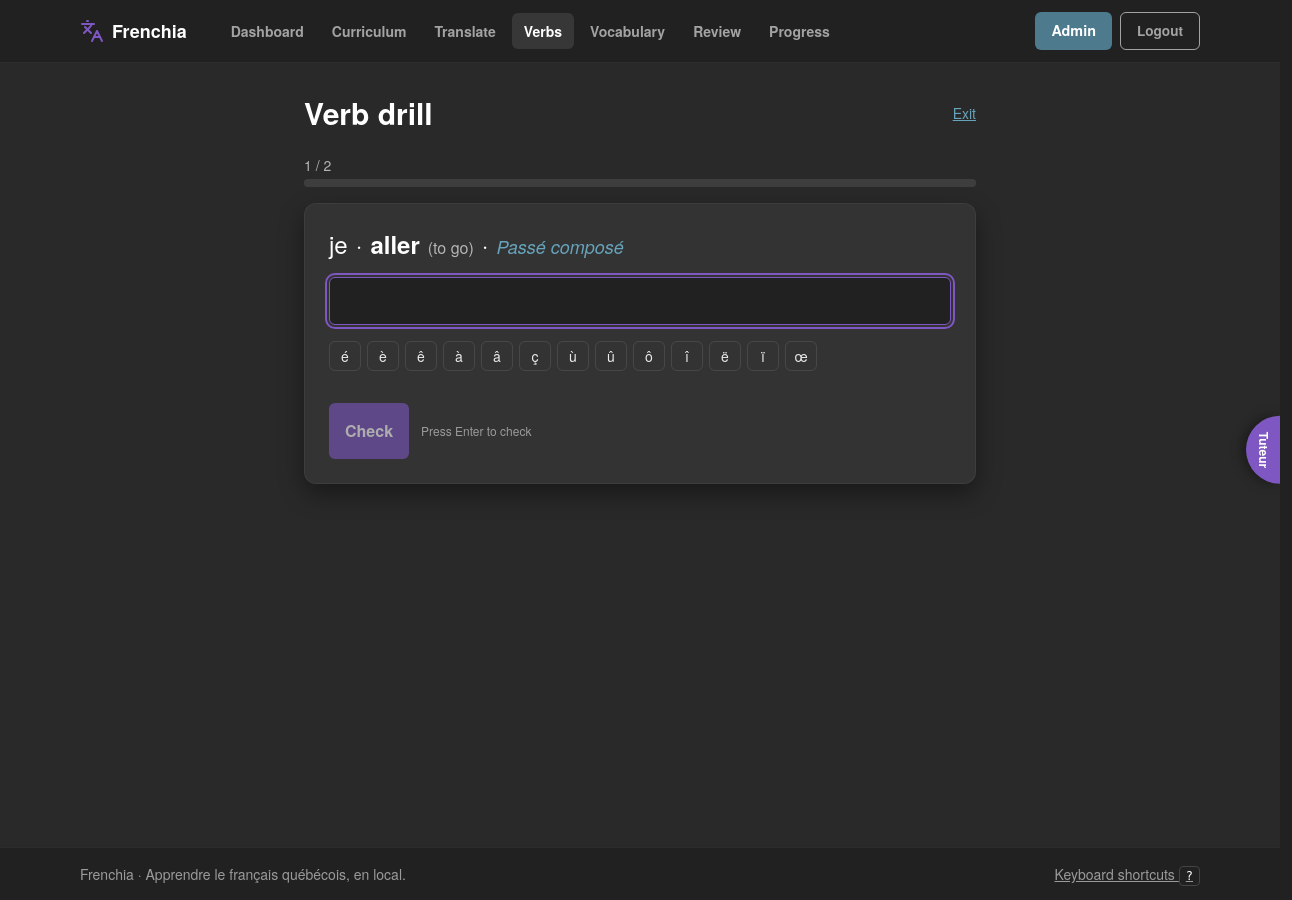
Verb Station › drill: form item posts the payload, shows feedback, Enter goes next, summary lists misses
Expected: the text "(to go)" is shown, top-left (428, 236), bottom-right (474, 260)
Type "suis allé" into the field named "Your answer" at (640, 301), box top-left (329, 277), bottom-right (951, 325)
Then press Enter
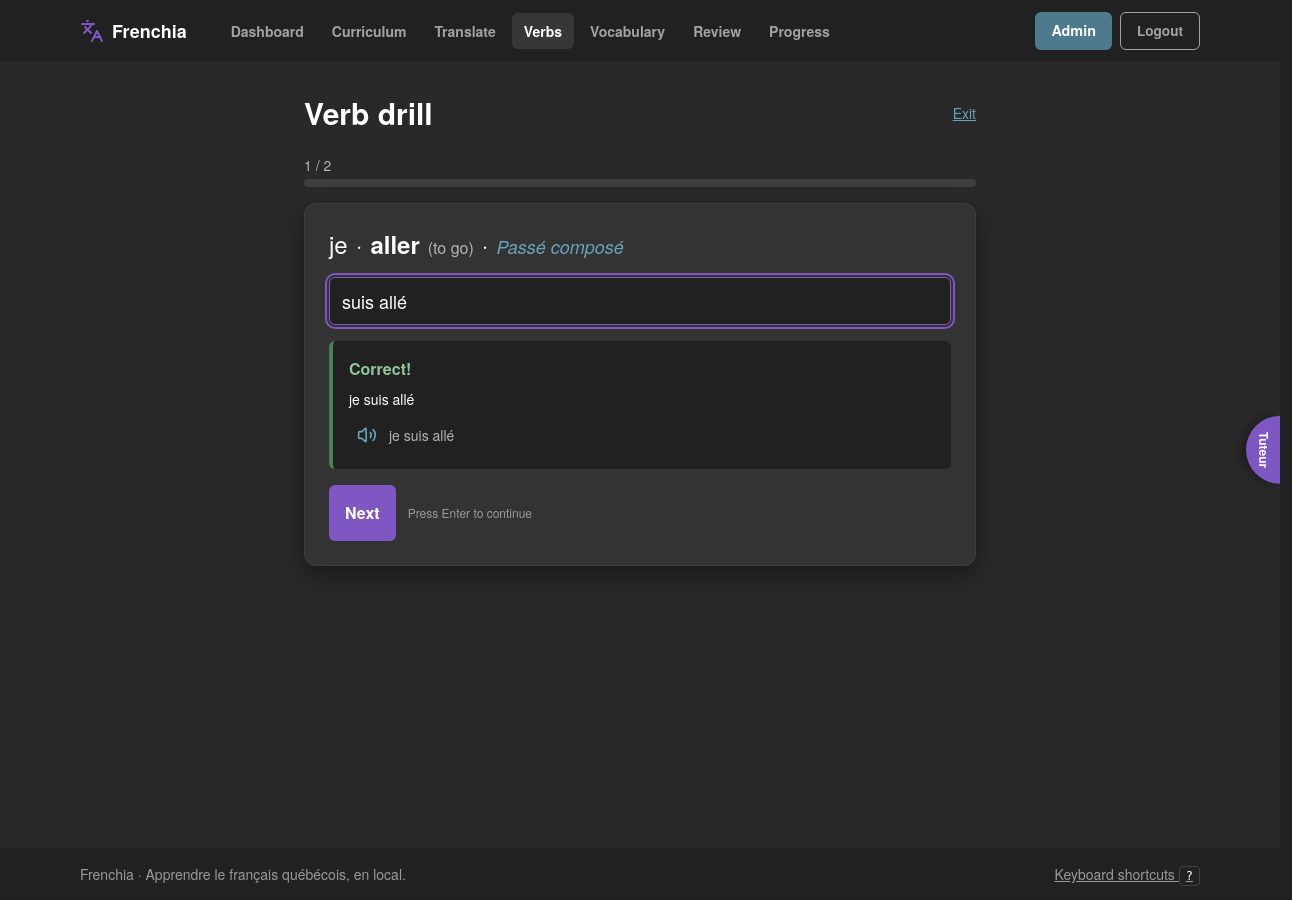
Expected: the text "Correct!" is shown, top-left (349, 357), bottom-right (411, 380)
Press Enter
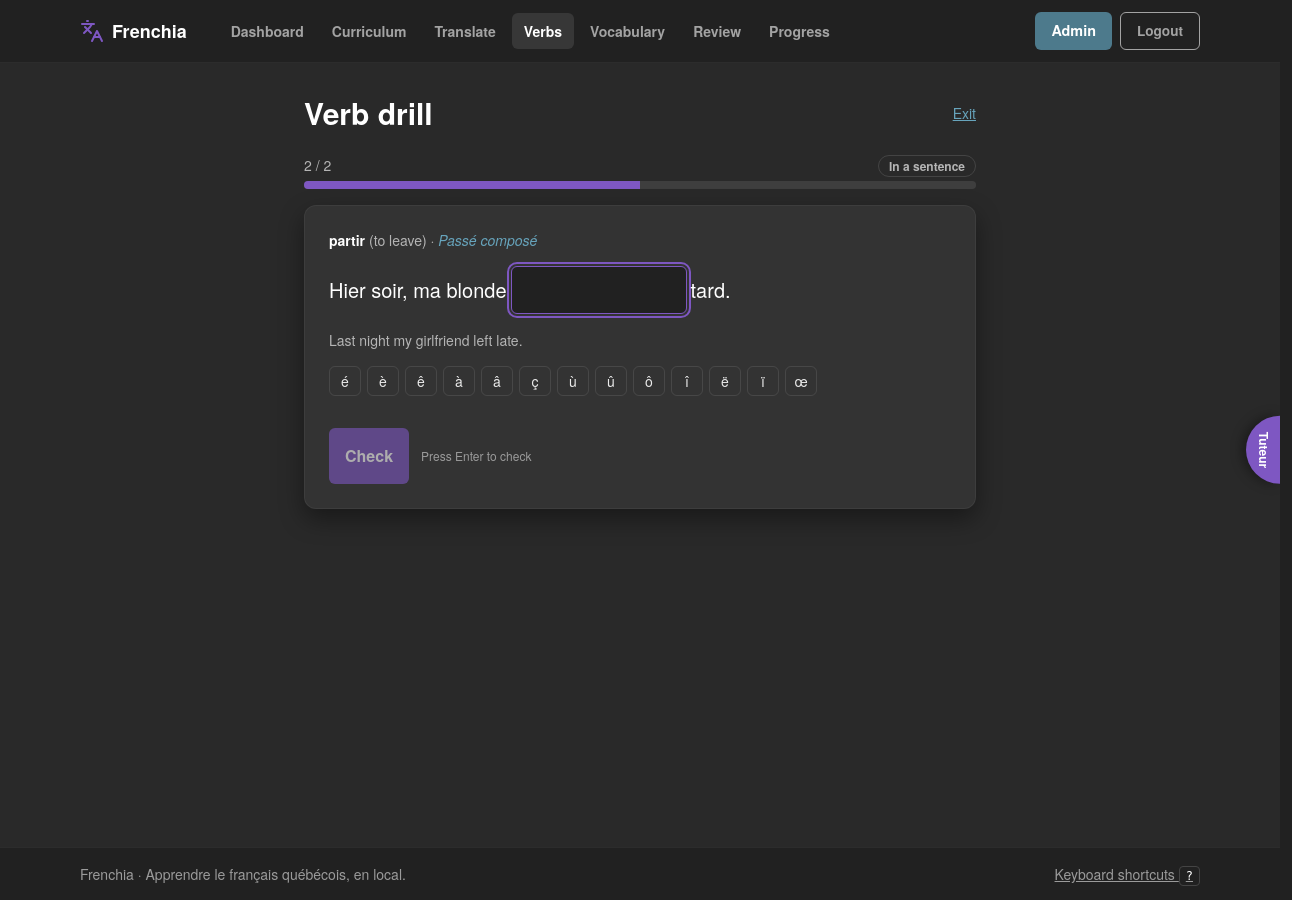
Expected: the text "Hier soir, ma blonde" is shown, top-left (329, 276), bottom-right (506, 304)
Expected: the text "tard." is shown, top-left (690, 276), bottom-right (730, 304)
Expected: the text "Last night my girlfriend left late." is shown, top-left (329, 330), bottom-right (522, 350)
Type "a parti" into the field named "Your answer" at (598, 290), box top-left (510, 266), bottom-right (686, 314)
Then press Enter
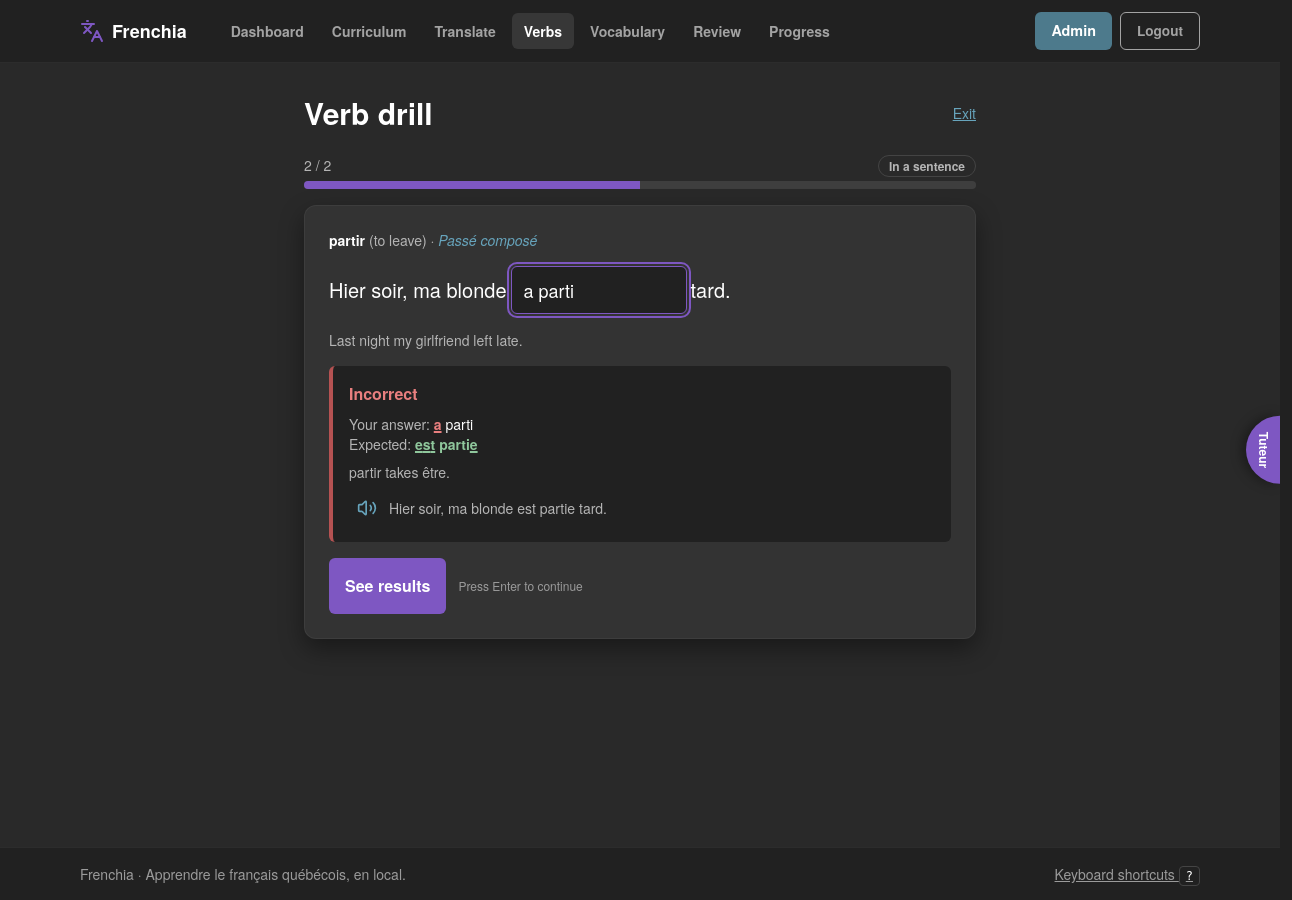
Expected: the text "Incorrect" is shown, top-left (349, 382), bottom-right (418, 405)
Press Enter
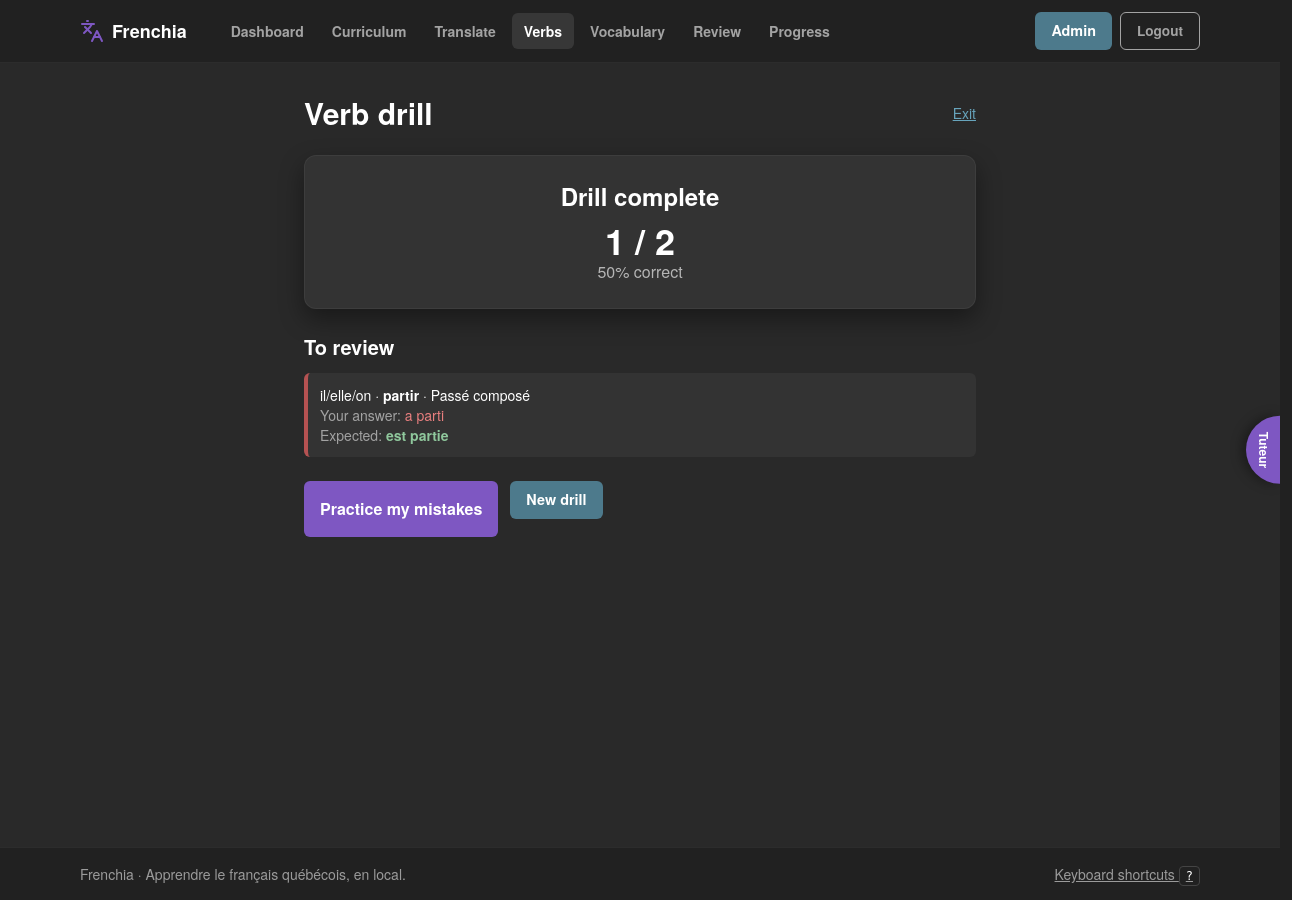
Expected: the text with test id "score" reads "1 / 2", top-left (605, 214), bottom-right (675, 266)
Expected: the text "a parti" is shown, top-left (405, 405), bottom-right (444, 425)
Expected: the text "est partie" is shown, top-left (386, 425), bottom-right (448, 445)
